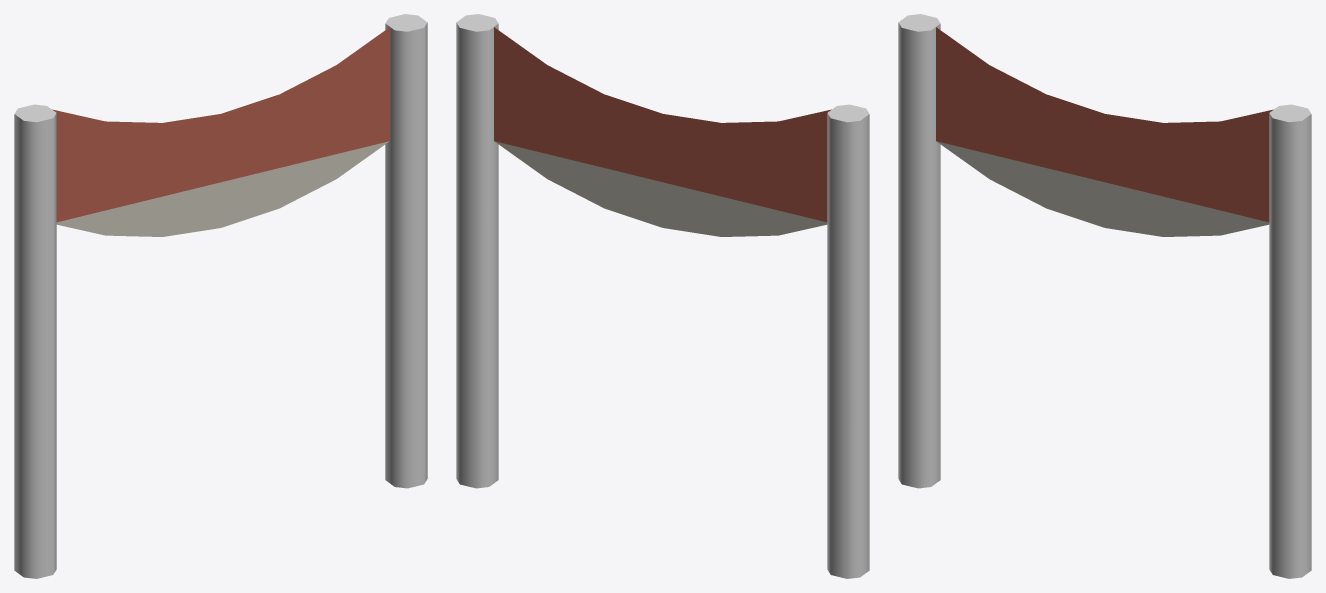
The model's file is banner-hanging-high.fbx.
The picture shows the model from 3 angles, left to right: view 1: azimuth 30°, elevation 25°; view 2: azimuth 150°, elevation 25°; view 3: azimuth 330°, elevation 25°; orthographic projection.
Parts seen in each view (by area): view 1: finish_line_posterr, finish_line_banner; view 2: finish_line_posterr, finish_line_banner; view 3: finish_line_posterr, finish_line_banner.
Boxes of the visible parts, bbox=[...] form: finish_line_posterr: bbox=[14, 14, 427, 578]; finish_line_banner: bbox=[52, 27, 389, 236]; finish_line_posterr: bbox=[456, 14, 869, 578]; finish_line_banner: bbox=[494, 27, 831, 236]; finish_line_posterr: bbox=[898, 14, 1311, 578]; finish_line_banner: bbox=[936, 27, 1273, 236].
Size of the model in its own units: 0.925 by 1 by 0.075.
